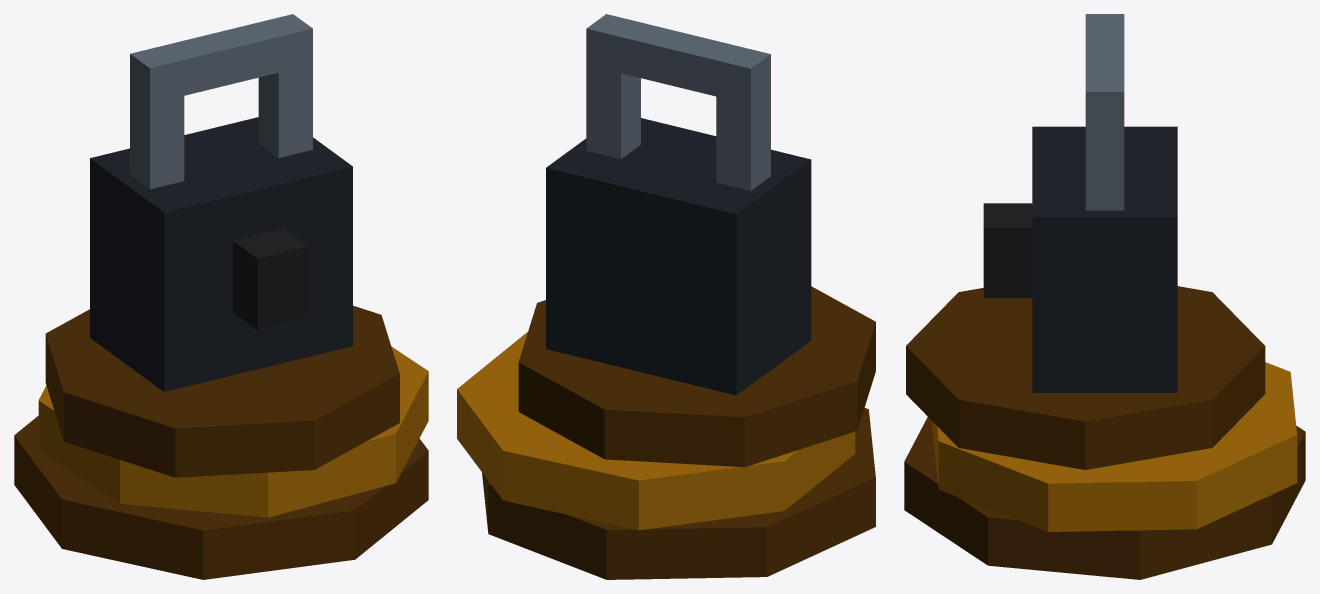
Rendered from Egoista_low.fbx.
3 renders of one model, left to right at view 1: azimuth 30°, elevation 25°; view 2: azimuth 150°, elevation 25°; view 3: azimuth 270°, elevation 25°, orthographic. The views are drawn at different scales.
Parts seen in each view (by area): view 1: Egoista_low; view 2: Egoista_low; view 3: Egoista_low.
Part boxes in pixels (bbox=[...]): Egoista_low: bbox=[14, 14, 428, 579]; Egoista_low: bbox=[457, 14, 875, 579]; Egoista_low: bbox=[904, 14, 1305, 579].
Size of the model in its own units: 41.47 by 50.25 by 41.36.
